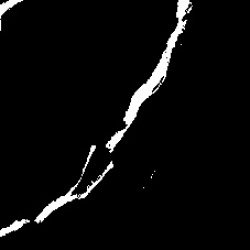crack: (3, 3, 190, 239)
